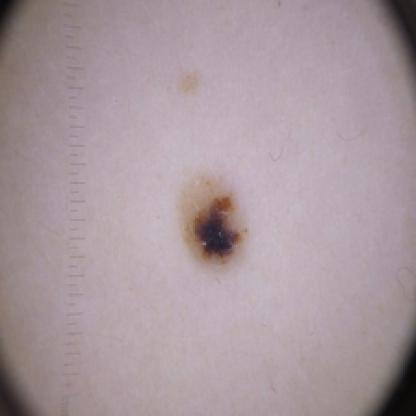benign: (182, 176, 247, 264)
